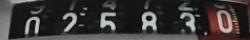digits: (98, 11, 118, 37), (59, 10, 77, 37), (141, 10, 158, 38), (24, 16, 42, 37), (180, 13, 196, 36), (216, 10, 232, 32)
